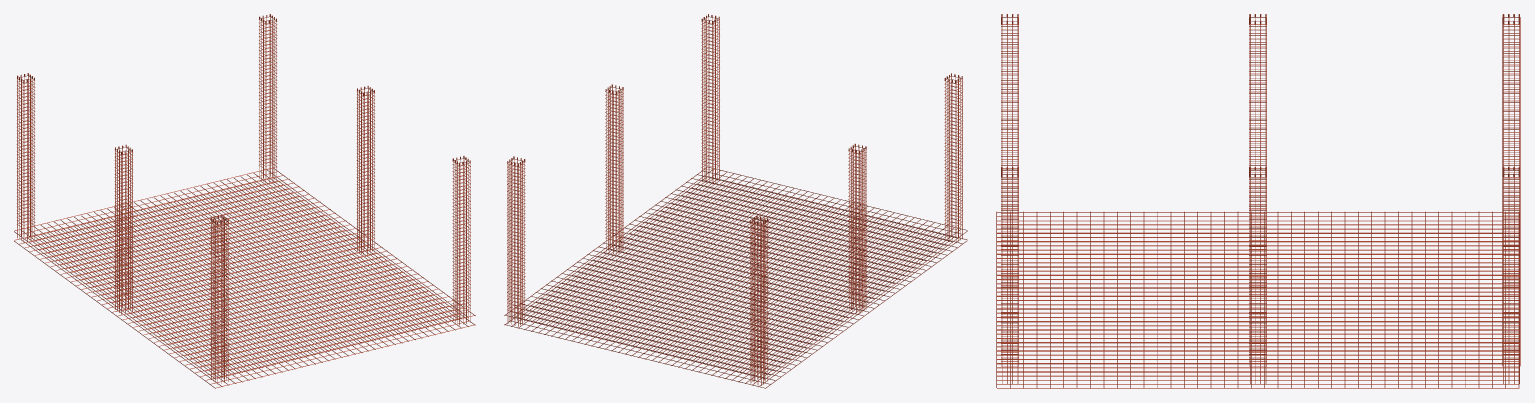
Rendered from besi4.glb.
3 renders of one model, left to right at view 1: azimuth 30°, elevation 25°; view 2: azimuth 150°, elevation 25°; view 3: azimuth 270°, elevation 25°, orthographic. The views are drawn at different scales.
Visible parts, largest first — view 1: besi4; view 2: besi4; view 3: besi4.
Boxes of the visible parts, x1,y1,x2,y2 form: besi4: (14,14,475,388); besi4: (504,14,967,388); besi4: (996,14,1520,388).
Bounding box in the file's own units: 5.79 × 3.5 × 7.81.
